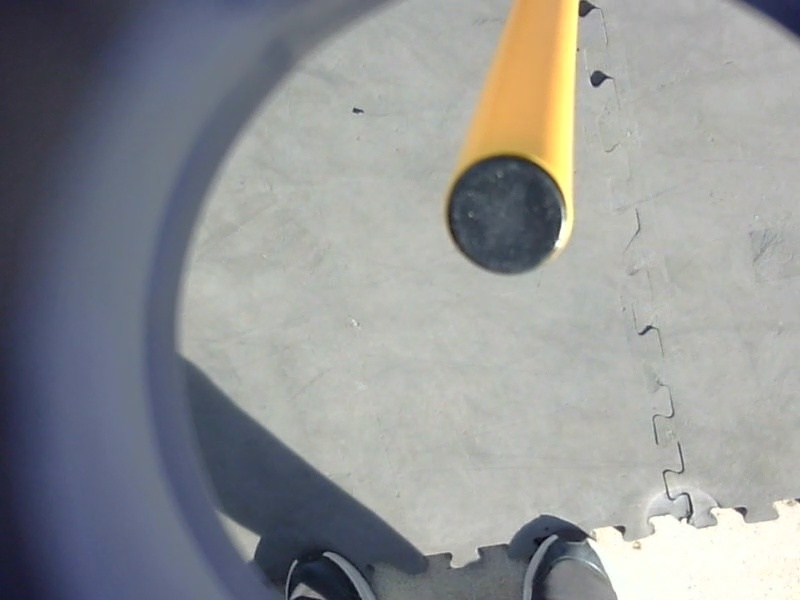tip: (437, 146, 580, 286)
